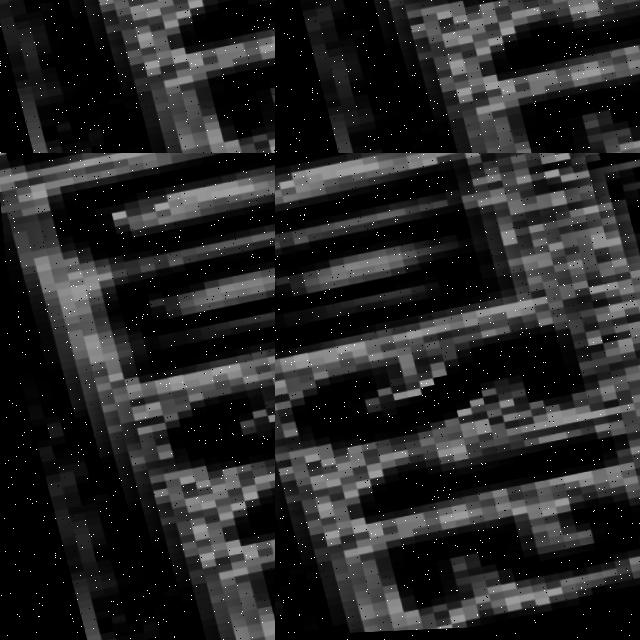license-plate: (275, 153, 640, 640), (0, 153, 275, 640), (315, 0, 640, 153), (0, 0, 275, 153)
